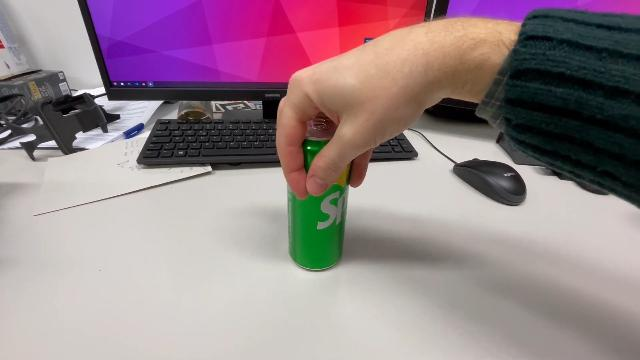Sprite: (282, 108, 352, 276)
